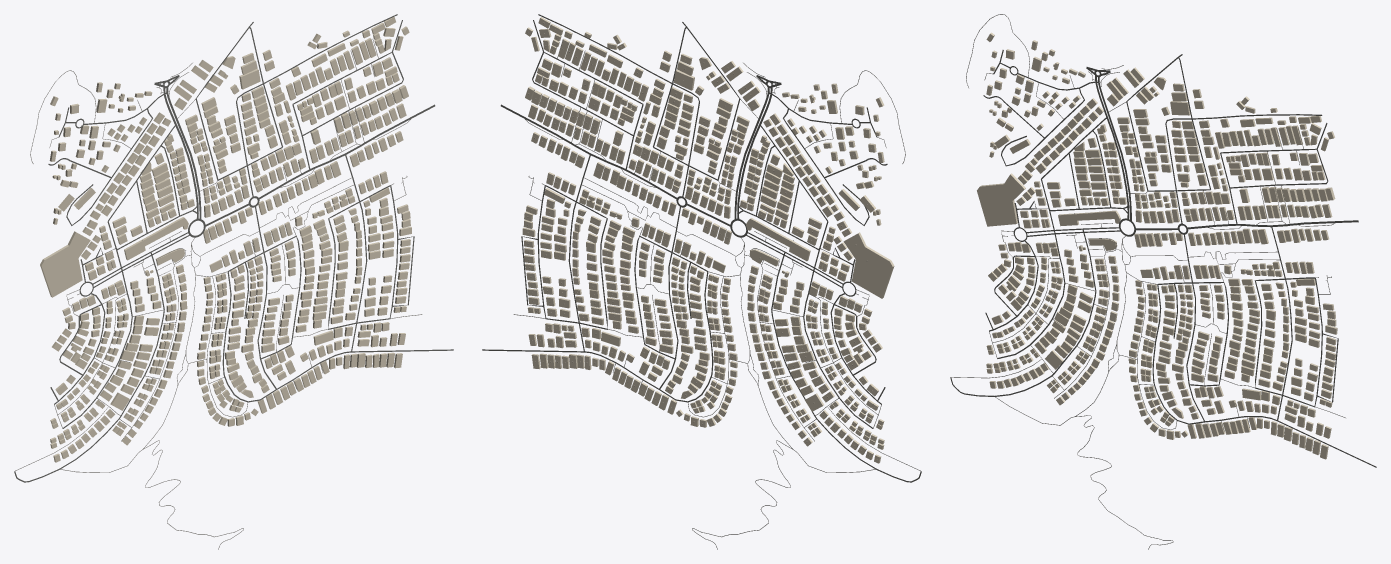
The model's file is historic-palestine-07_31_3494_3256.glb.
3 renders of one model, left to right at view 1: azimuth 30°, elevation 25°; view 2: azimuth 150°, elevation 25°; view 3: azimuth 330°, elevation 25°, orthographic. The views are drawn at different scales.
Parts seen in each view (by area): view 1: Building_.739, Building_.003; view 2: Building_.739, Building_.003; view 3: Building_.739, Building_.003.
Boxes of the visible parts, box(x1,y1,x2,y2) form: Building_.739: box(40, 231, 90, 297); Building_.003: box(124, 217, 188, 260); Building_.739: box(843, 232, 894, 298); Building_.003: box(746, 218, 810, 261); Building_.739: box(977, 173, 1025, 226); Building_.003: box(1058, 210, 1120, 226).
Size of the model in its own units: 1184 by 1338 by 10.5.
